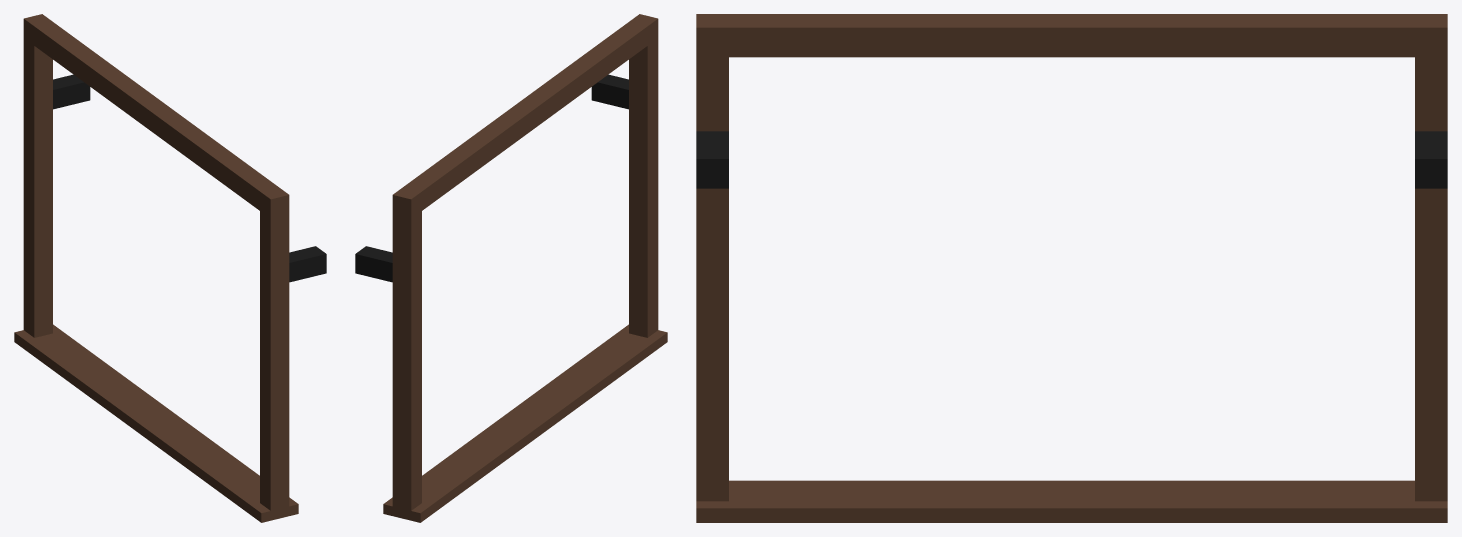
Rendered from technical_roll_hoop.glb.
3 renders of one model, left to right at view 1: azimuth 30°, elevation 25°; view 2: azimuth 150°, elevation 25°; view 3: azimuth 270°, elevation 25°, orthographic. The views are drawn at different scales.
Visible parts, largest first — view 1: body:compound; view 2: body:compound; view 3: body:compound.
Boxes of the visible parts, bbox=[...] form: body:compound: bbox=[14, 14, 326, 522]; body:compound: bbox=[355, 14, 667, 522]; body:compound: bbox=[696, 14, 1447, 522].
Size of the model in its own units: 0.2188 by 1.03 by 1.44.
